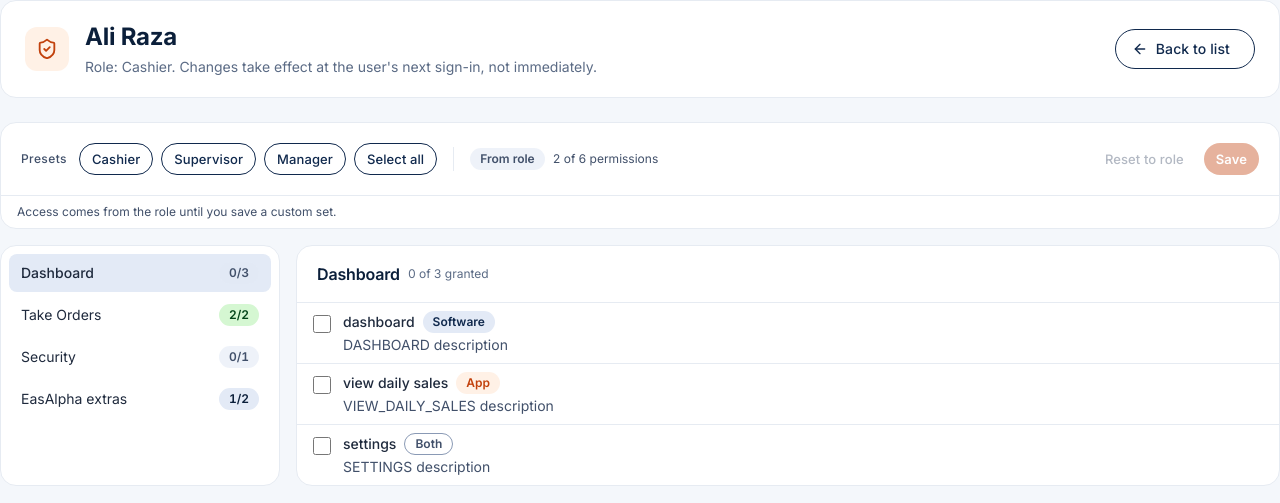
PermissionEditor › shows surface and Restriction badges but never the machine code (review 4.6)
Expected: the heading "Ali Raza" is shown, [85, 21, 177, 53]
Expected: the text "Software" is shown, [423, 311, 495, 333]
Click the button "Security 0/1". click: {"x": 48, "y": 356}
box: [9, 338, 271, 376]
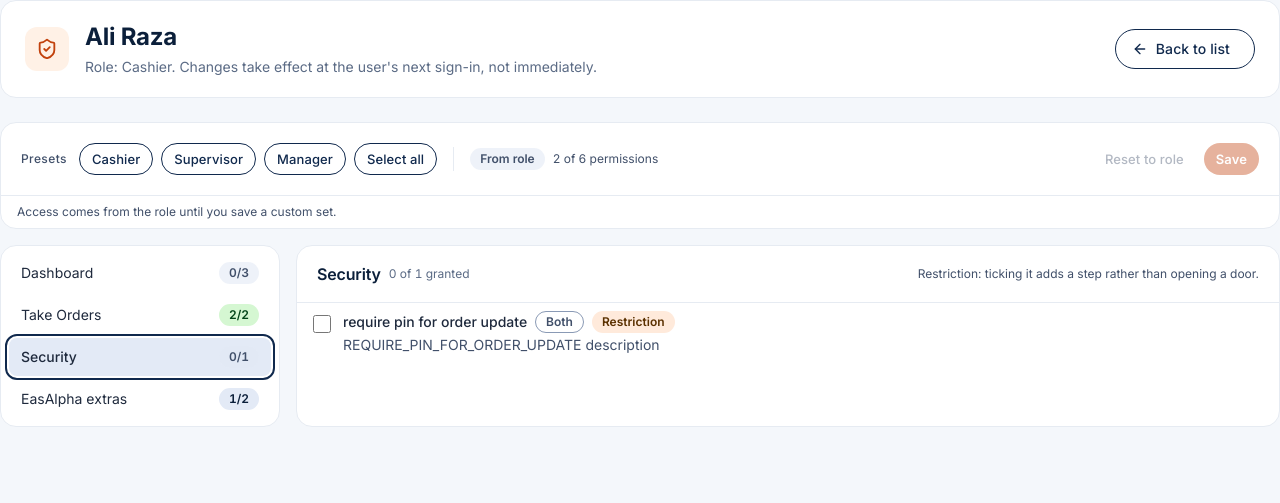
Expected: the text "Restriction" is shown, [592, 311, 674, 333]
Expected: the text "adds a step rather than opening a door" is shown, [918, 266, 1259, 281]
